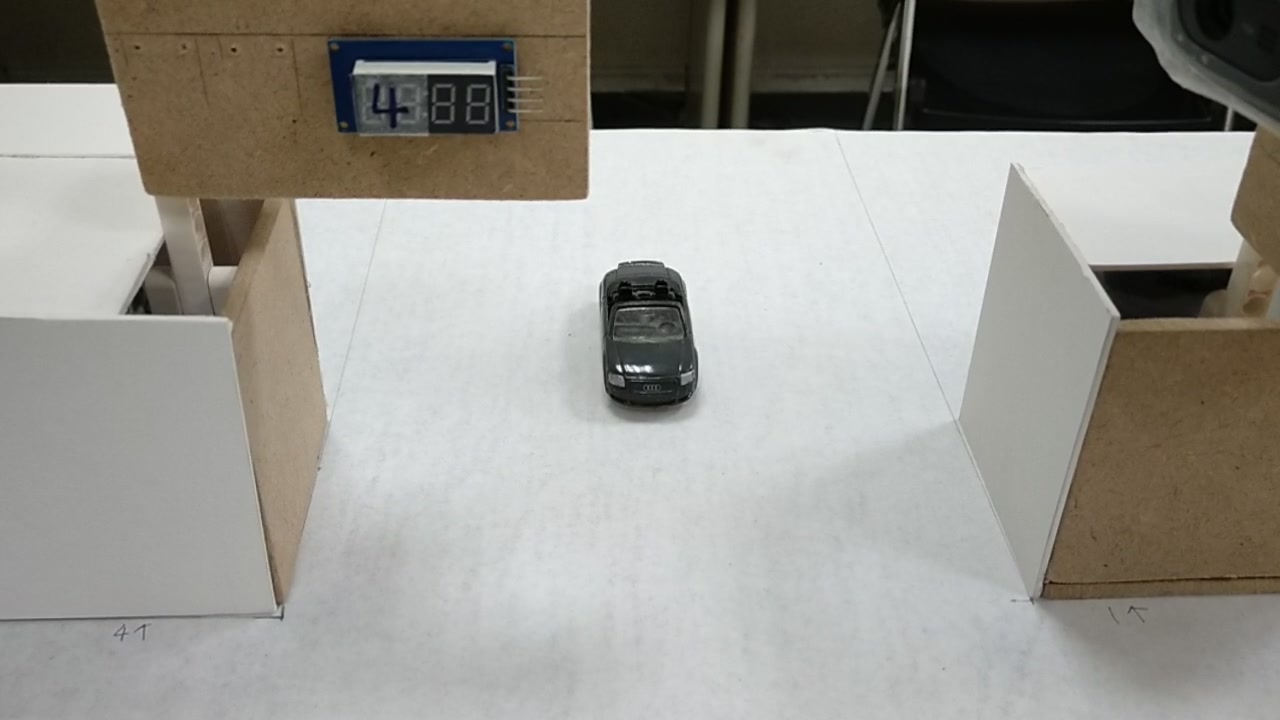car: (594, 266, 699, 395)
